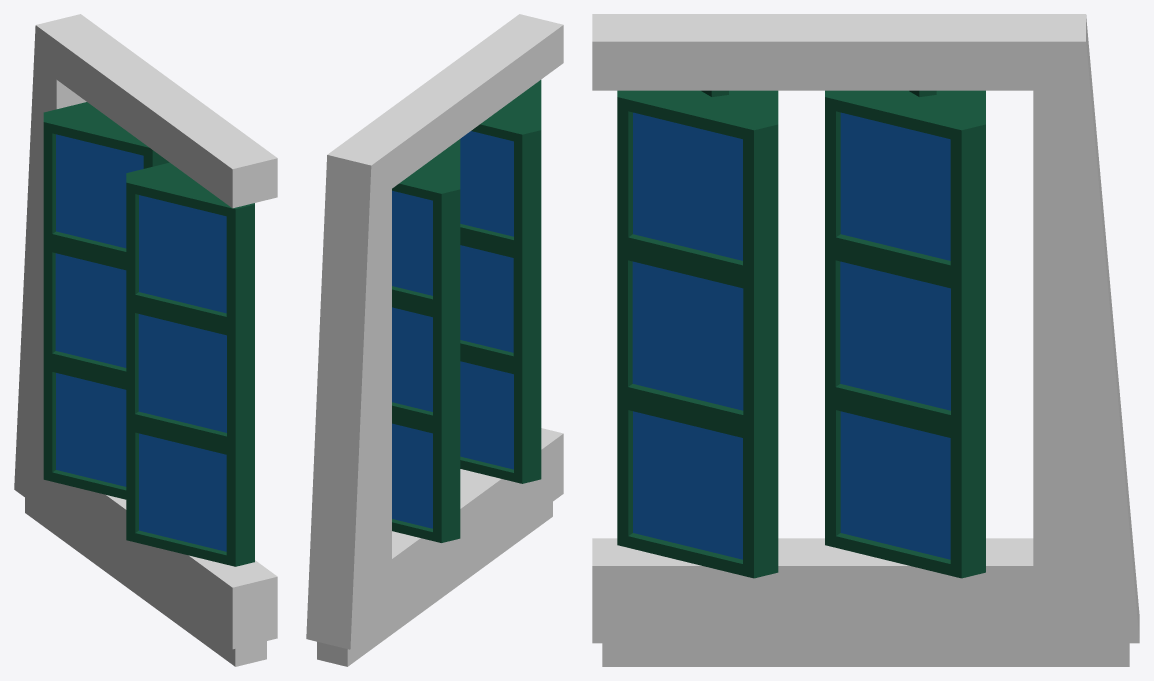
Rendered from T_street_advertising2.fbx.
3 views of the same model, side by side, from view 1: azimuth 30°, elevation 25°; view 2: azimuth 150°, elevation 25°; view 3: azimuth 270°, elevation 25° (orthographic). The views are drawn at different scales.
Visible parts, largest first — view 1: Cylinder_1_2, street_advertising2, Cylinder_1; view 2: street_advertising2, Cylinder_1_2, Cylinder_1; view 3: street_advertising2, Cylinder_1_2, Cylinder_1.
Boxes of the visible parts, x1,y1,x2,y2 form: Cylinder_1_2: [126, 162, 254, 566]; street_advertising2: [14, 14, 277, 666]; Cylinder_1: [43, 102, 169, 499]; street_advertising2: [306, 14, 563, 666]; Cylinder_1_2: [460, 80, 541, 483]; Cylinder_1: [392, 139, 460, 542]; street_advertising2: [592, 14, 1139, 666]; Cylinder_1_2: [617, 90, 778, 578]; Cylinder_1: [825, 90, 985, 578].
Bounding box in the file's own units: 70.37 × 263 × 207.
